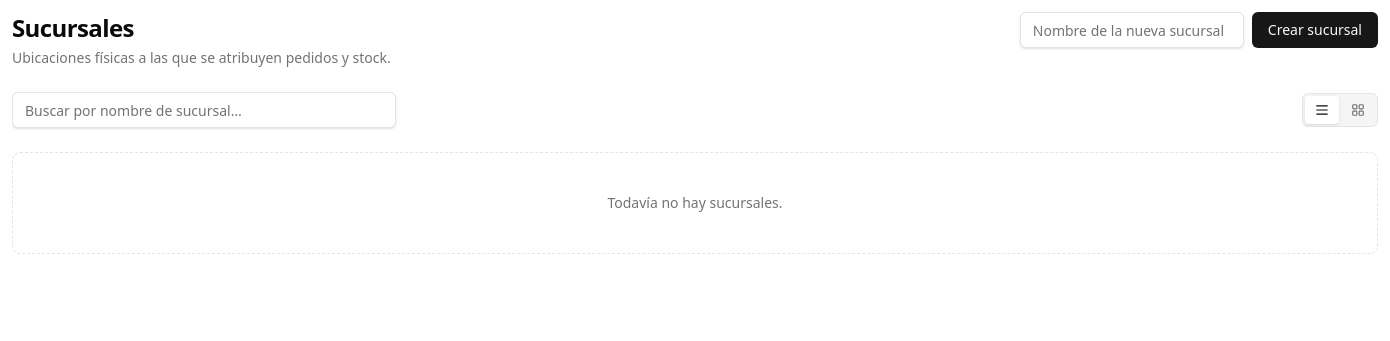
Test case: BranchesScreen › surfaces a create failure as an alert without clearing the typed name
The width and height of the screenshot is (1390, 341).
Expected: the text "Todavía no hay sucursales." is shown, [12,152,1378,254]
In the field named "Nombre de la sucursal": (1132, 30) [1020,12,1244,48], type "Central warehouse"
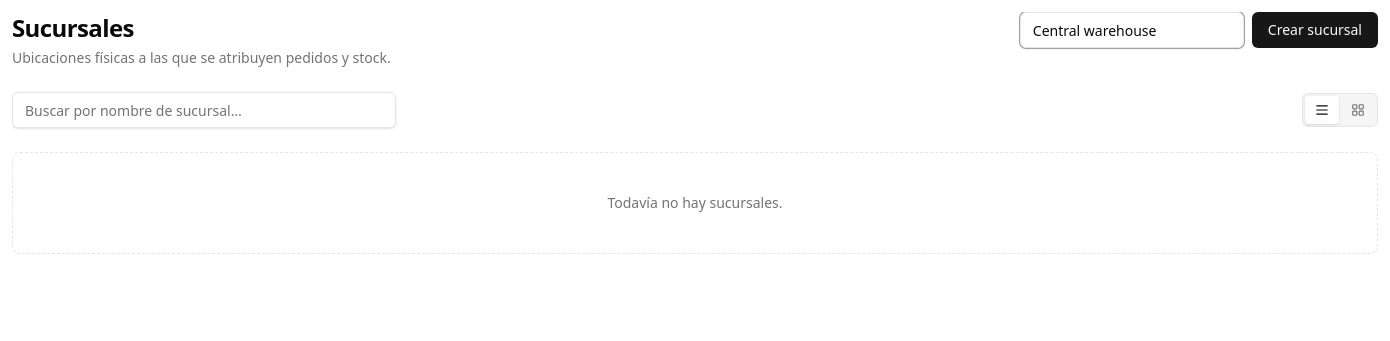
Click the button "Crear sucursal": (1315, 30) [1252,12,1378,48]
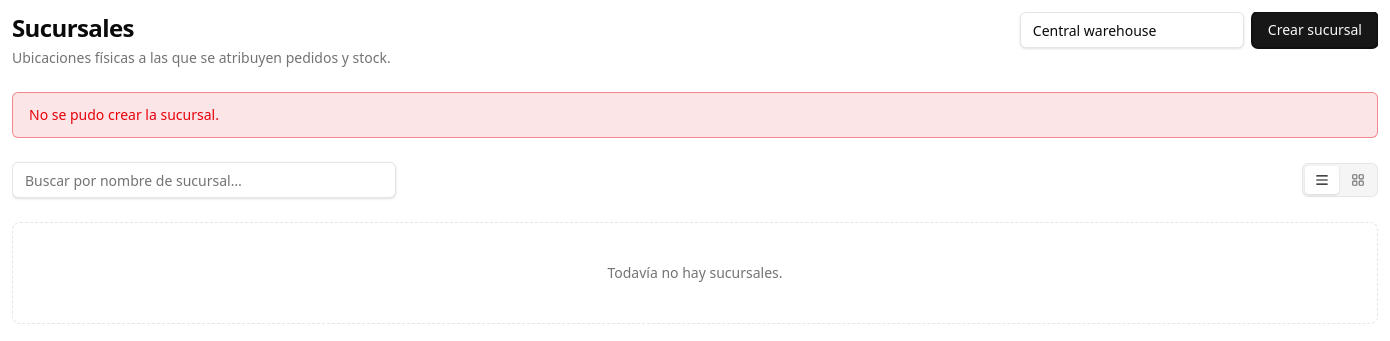
Expected: the message shows "No se pudo crear la sucursal", [29,105,219,124]
